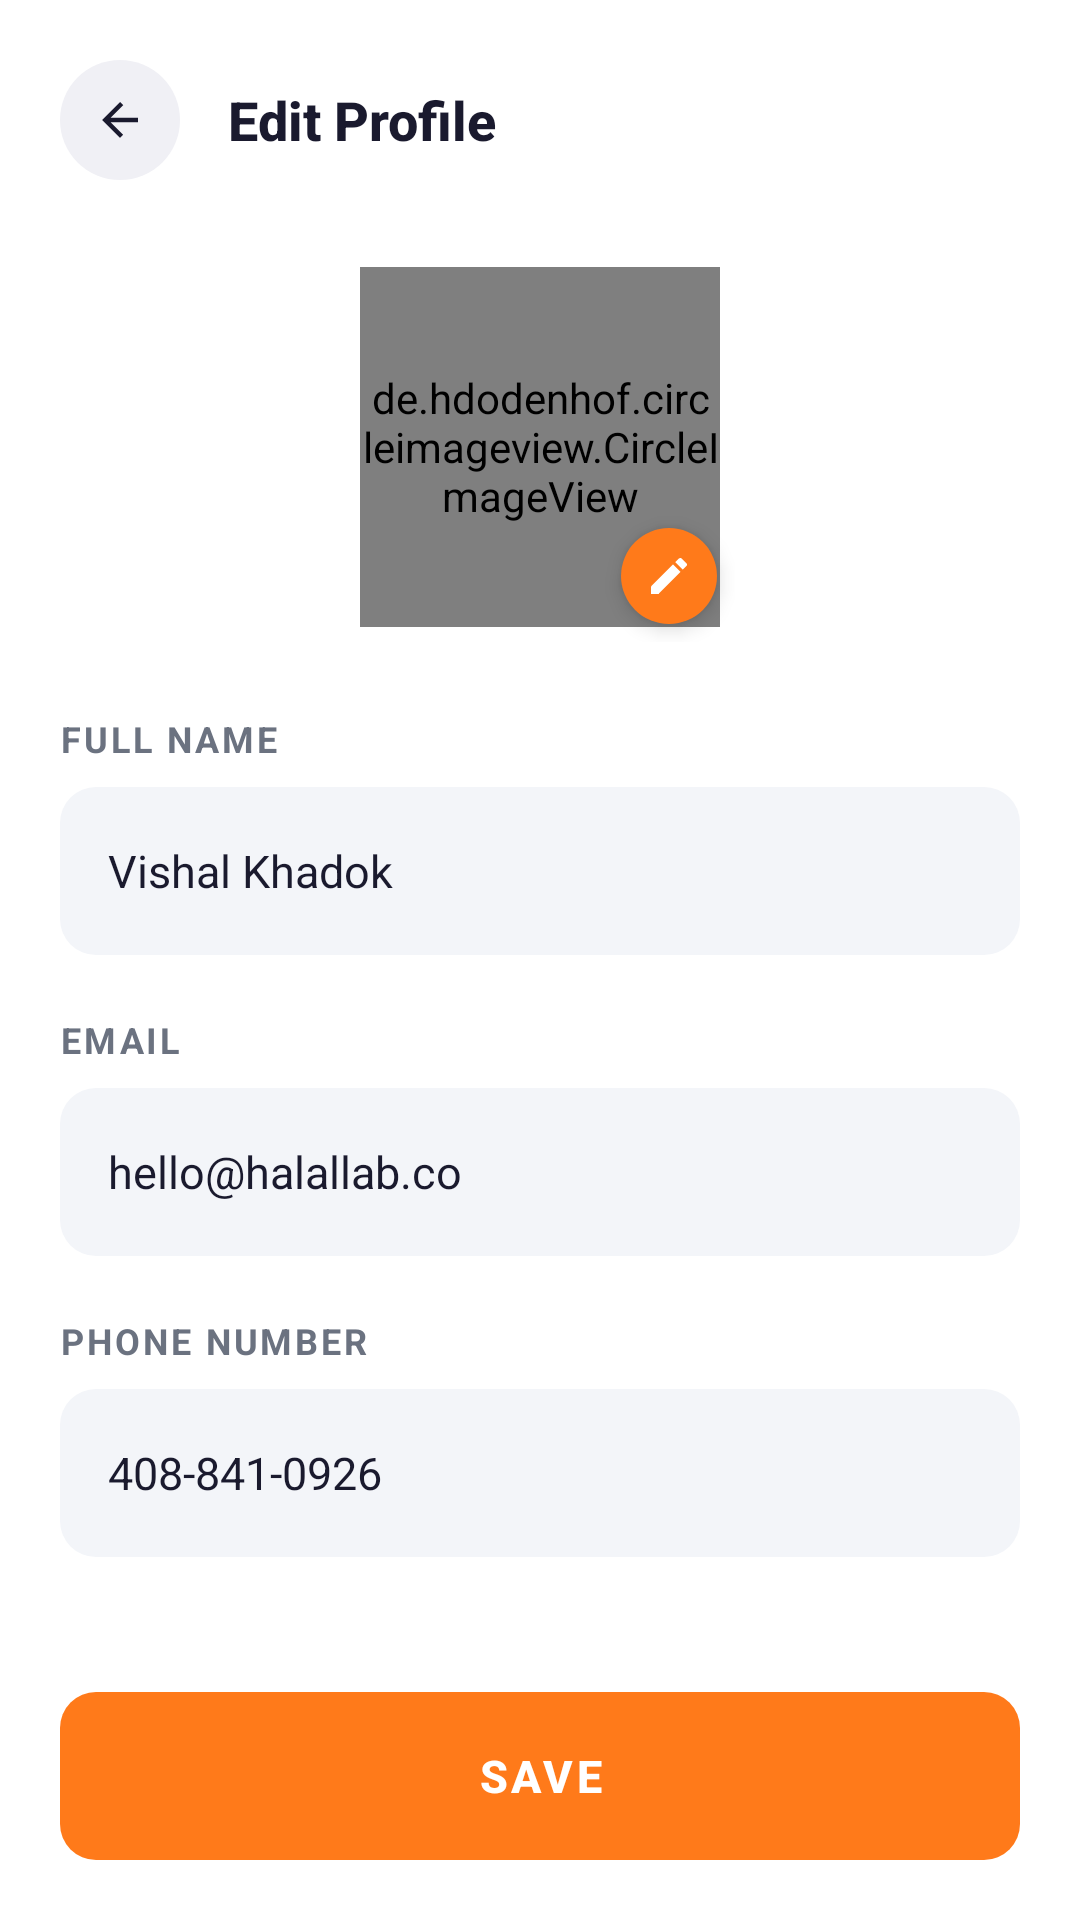

Screen size 1080px×1920px. Icon name, then its center in pixels as (x,y):
Back: (120,120)
Edit avatar: (669,576)
